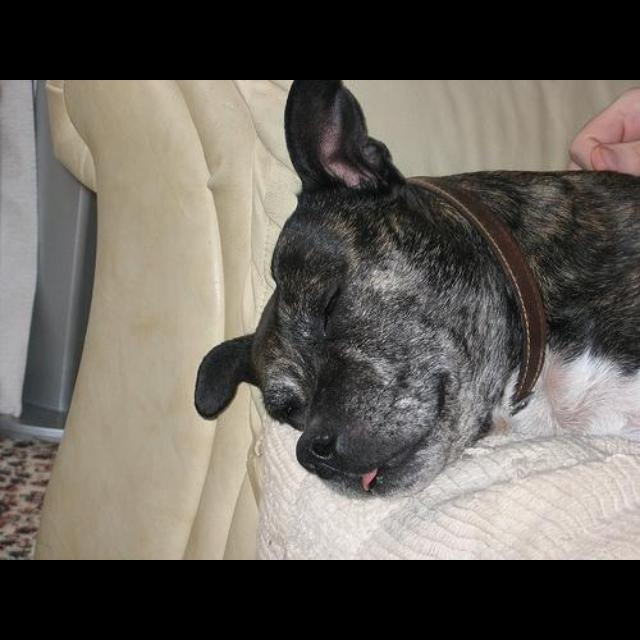staffford: (193, 82, 639, 503)
